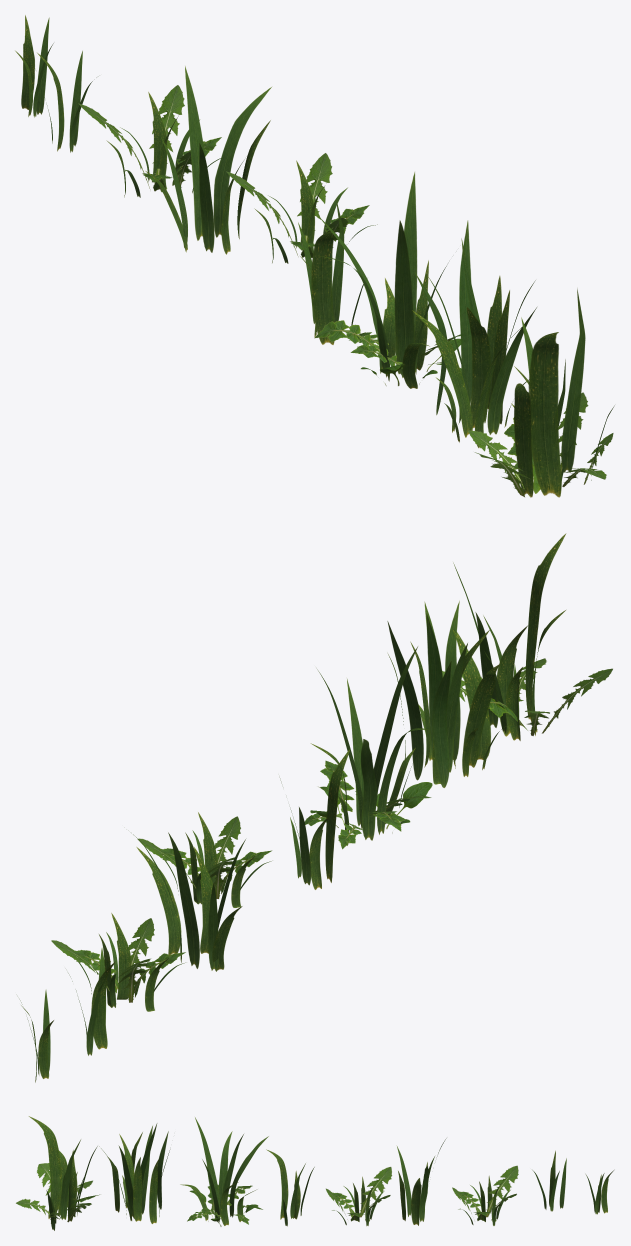
The model's file is grass.glb.
3 renders of one model, top to bottom at view 1: azimuth 30°, elevation 25°; view 2: azimuth 150°, elevation 25°; view 3: azimuth 270°, elevation 25°, orthographic. The views are drawn at different scales.
Visible parts, largest first — view 1: Object_3, Object_2, Object_4; view 2: Object_3, Object_2, Object_4; view 3: Object_3, Object_2, Object_4.
Boxes of the visible parts, x1,y1,x2,y2 form: Object_3: [15, 15, 614, 497]; Object_2: [78, 85, 613, 497]; Object_4: [33, 43, 377, 344]; Object_3: [19, 533, 566, 1082]; Object_2: [51, 658, 612, 1002]; Object_4: [43, 749, 350, 1071]; Object_3: [29, 1116, 613, 1230]; Object_2: [16, 1163, 518, 1224]; Object_4: [266, 1146, 595, 1225].
Size of the model in its own units: 0.5787 by 0.5458 by 2.88.
2 materials, 2 textured.
